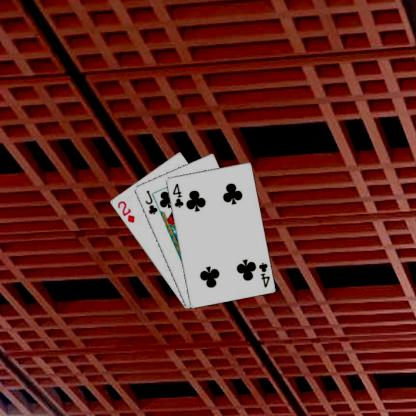2D: (114, 198, 136, 224)
4C: (255, 260, 271, 288), (170, 180, 184, 209)
JC: (142, 188, 159, 216)
